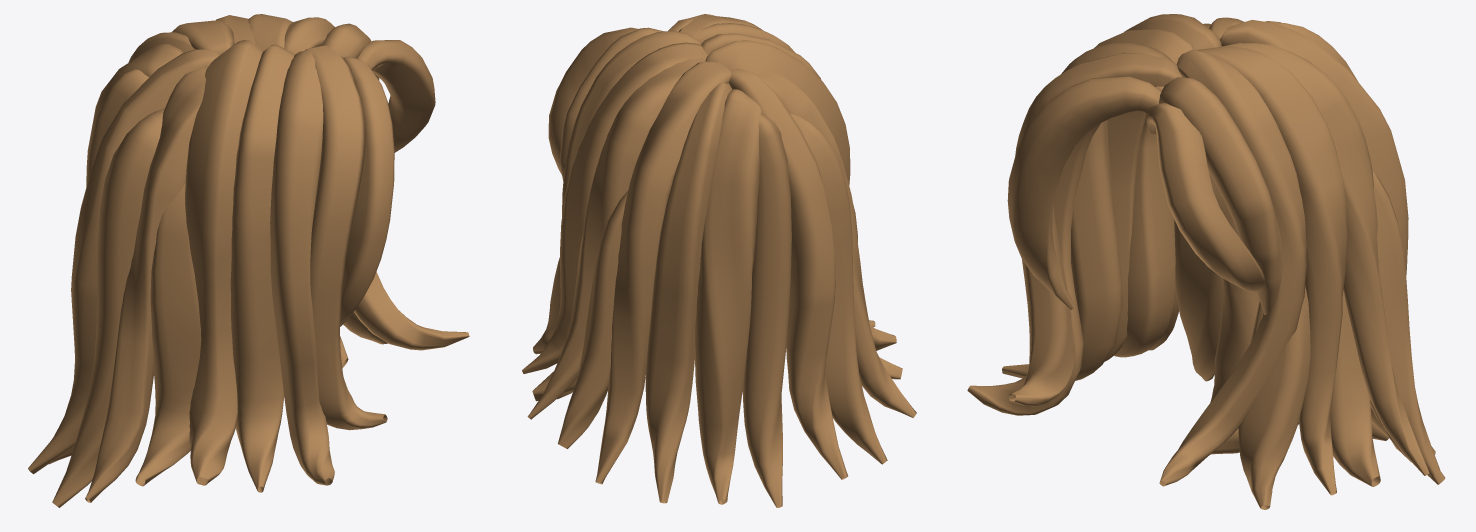
Rendered from Doll_Hair.fbx.
3 renders of one model, left to right at view 1: azimuth 30°, elevation 25°; view 2: azimuth 150°, elevation 25°; view 3: azimuth 270°, elevation 25°, orthographic. The views are drawn at different scales.
Visible parts, largest first — view 1: Head1_HairStrand.022; view 2: Head1_HairStrand.022; view 3: Head1_HairStrand.022.
Part boxes in pixels (x1=…): Head1_HairStrand.022: x1=28, y1=14, x2=469, y2=507; Head1_HairStrand.022: x1=522, y1=14, x2=916, y2=507; Head1_HairStrand.022: x1=967, y1=14, x2=1445, y2=509.
Bounding box in the file's own units: 5.2 × 5.35 × 5.13.
